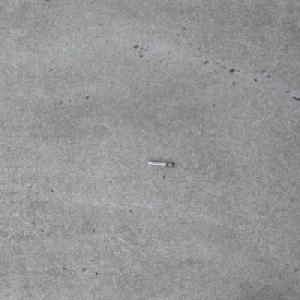Battery: (147, 161, 174, 166)
